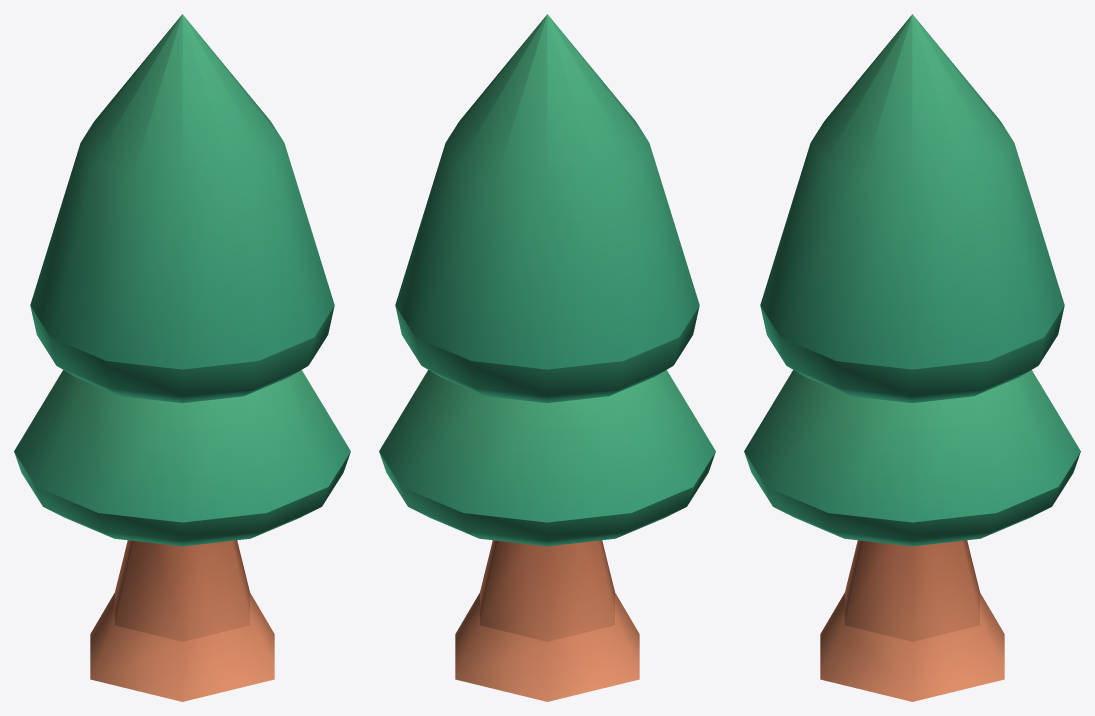
File: tree-pine-cute.glb
The picture shows the model from 3 angles, left to right: view 1: azimuth 30°, elevation 25°; view 2: azimuth 150°, elevation 25°; view 3: azimuth 270°, elevation 25°; orthographic projection.
Parts seen in each view (by area): view 1: tree-pine; view 2: tree-pine; view 3: tree-pine.
Boxes of the visible parts, x1=… form: tree-pine: x1=14, y1=14, x2=350, y2=701; tree-pine: x1=379, y1=14, x2=715, y2=701; tree-pine: x1=744, y1=14, x2=1080, y2=701.
Size of the model in its own units: 2 by 4.2 by 2.
Materials: 1 (1 with a texture image).
